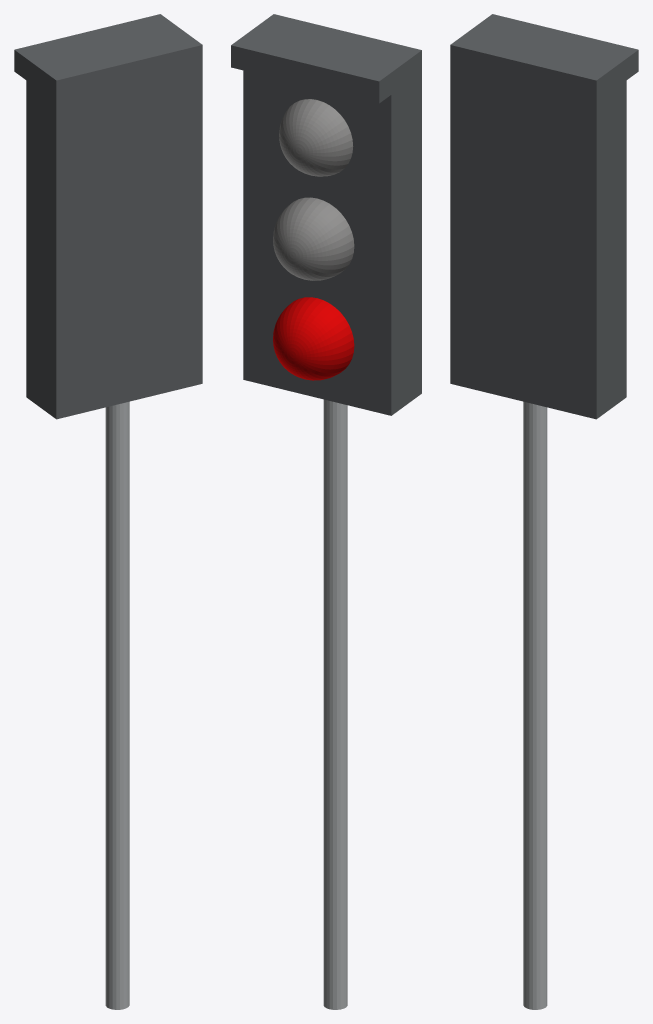
The model's file is red_signal.glb.
3 renders of one model, left to right at view 1: azimuth 30°, elevation 25°; view 2: azimuth 150°, elevation 25°; view 3: azimuth 330°, elevation 25°, orthographic.
Visible parts, largest first — view 1: Mesh_Mesh_head_geo.001_lambert2SG.001; view 2: Mesh_Mesh_head_geo.001_lambert2SG.001; view 3: Mesh_Mesh_head_geo.001_lambert2SG.001.
Part boxes in pixels (x1,y1,x2,y2): Mesh_Mesh_head_geo.001_lambert2SG.001: [14, 14, 202, 1009]; Mesh_Mesh_head_geo.001_lambert2SG.001: [231, 14, 421, 1009]; Mesh_Mesh_head_geo.001_lambert2SG.001: [450, 14, 638, 1009].
Size of the model in its own units: 14 by 87 by 9.
